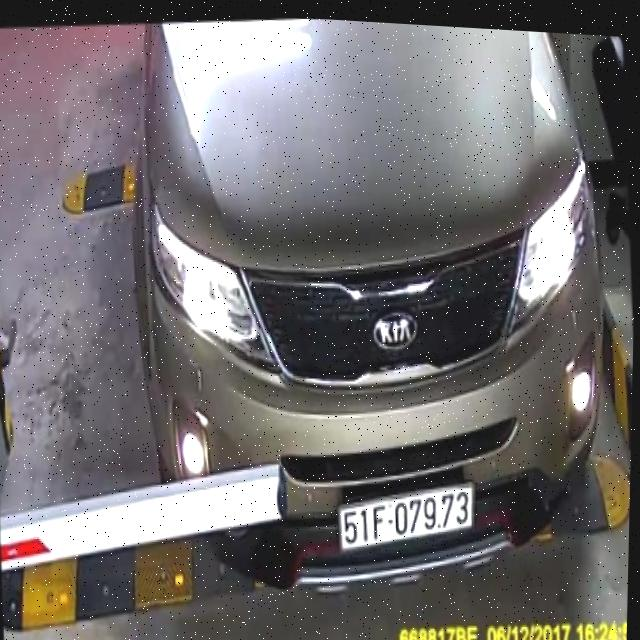car: (122, 8, 626, 623)
plate: (333, 469, 487, 566)
